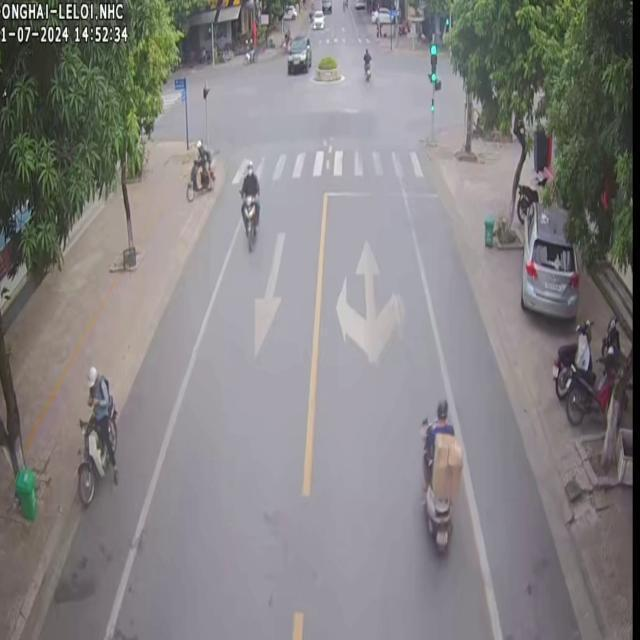car: (519, 200, 577, 316), (286, 34, 309, 74)
green_light: (428, 44, 437, 82)
motobike: (76, 365, 117, 505), (422, 398, 460, 549), (564, 347, 619, 422), (550, 318, 590, 398), (238, 158, 258, 248), (184, 158, 213, 200), (362, 47, 369, 80)
stop_line: (325, 189, 439, 196)
